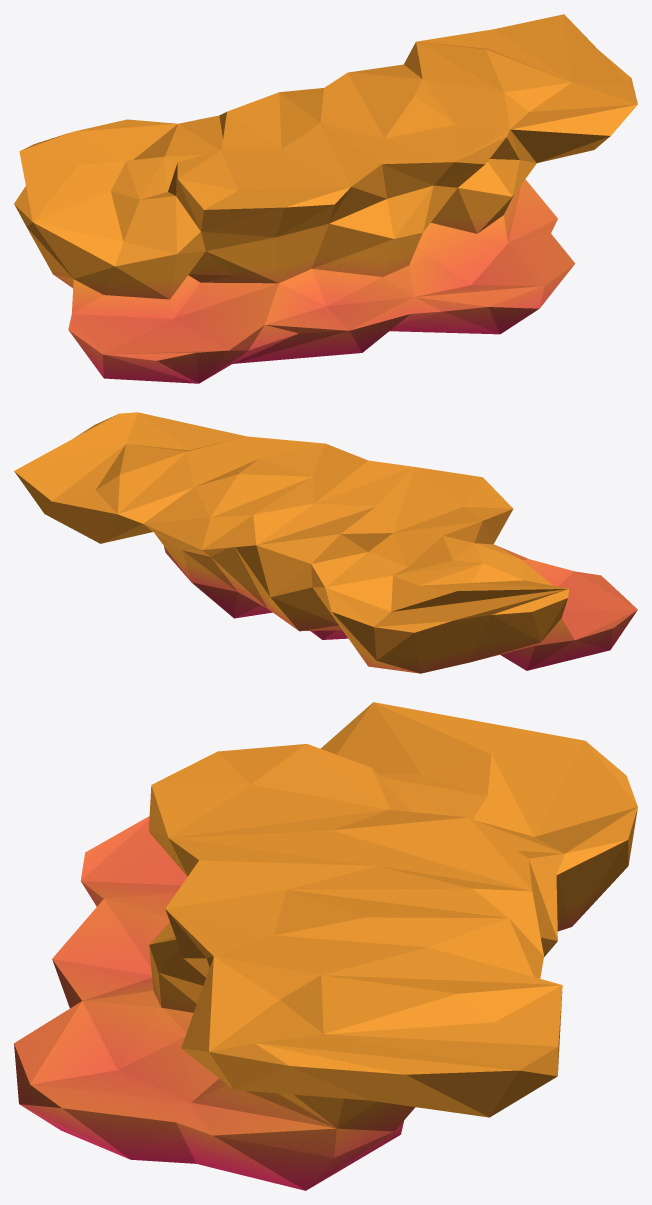
The model's file is SM_Coral_29.fbx.
3 renders of one model, top to bottom at view 1: azimuth 30°, elevation 25°; view 2: azimuth 150°, elevation 25°; view 3: azimuth 270°, elevation 25°, orthographic. The views are drawn at different scales.
Parts seen in each view (by area): view 1: Coral_29; view 2: Coral_29; view 3: Coral_29.
Boxes of the visible parts, box(x1,y1,x2,y2) form: Coral_29: box(14, 14, 637, 383); Coral_29: box(14, 412, 637, 673); Coral_29: box(14, 702, 637, 1190).
Bounding box in the file's own units: 592 × 151 × 375.
